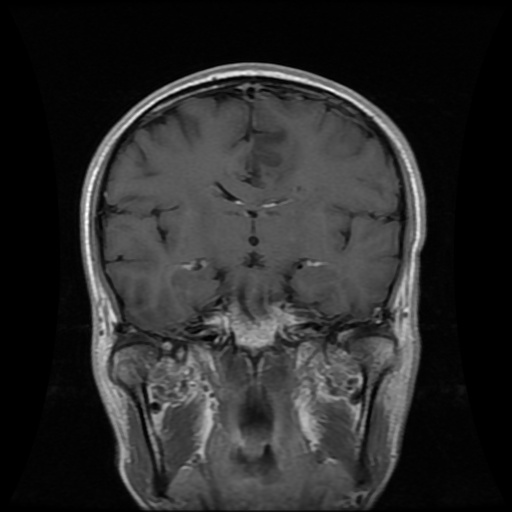glioma: (249, 128, 286, 177)
